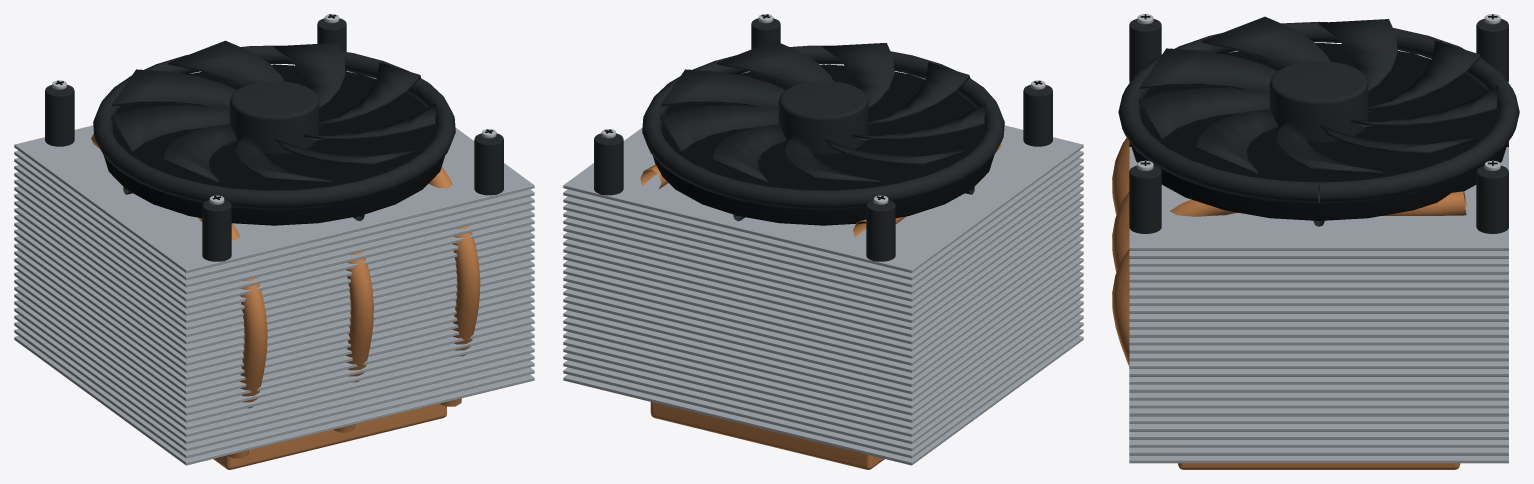
Rendered from cpu-cooler.633de2f46af1.glb.
3 renders of one model, left to right at view 1: azimuth 30°, elevation 25°; view 2: azimuth 150°, elevation 25°; view 3: azimuth 270°, elevation 25°, orthographic. The views are drawn at different scales.
Parts seen in each view (by area): view 1: CPU_COOLER / Satin aluminium, Fan rotor assembly.002 / Fine moulded ABS, Fan shadow.002, CPU_COOLER / Copper heat pipes, CPU_COOLER / Fine moulded ABS; view 2: CPU_COOLER / Satin aluminium, Fan rotor assembly.002 / Fine moulded ABS, Fan shadow.002, CPU_COOLER / Fine moulded ABS, CPU_COOLER / Copper heat pipes; view 3: CPU_COOLER / Satin aluminium, Fan rotor assembly.002 / Fine moulded ABS, Fan shadow.002, CPU_COOLER / Fine moulded ABS, CPU_COOLER / Copper heat pipes, CPU_COOLER / Nickel plated fasteners.
Part boxes in pixels (x1=…): CPU_COOLER / Satin aluminium: x1=14, y1=71, x2=534, y2=465; Fan rotor assembly.002 / Fine moulded ABS: x1=93, y1=40, x2=455, y2=221; Fan shadow.002: x1=103, y1=64, x2=445, y2=225; CPU_COOLER / Copper heat pipes: x1=91, y1=133, x2=480, y2=469; CPU_COOLER / Fine moulded ABS: x1=45, y1=18, x2=503, y2=261; CPU_COOLER / Satin aluminium: x1=563, y1=71, x2=1083, y2=465; Fan rotor assembly.002 / Fine moulded ABS: x1=642, y1=40, x2=1004, y2=221; Fan shadow.002: x1=652, y1=64, x2=994, y2=225; CPU_COOLER / Fine moulded ABS: x1=594, y1=18, x2=1052, y2=261; CPU_COOLER / Copper heat pipes: x1=640, y1=144, x2=1001, y2=469; CPU_COOLER / Satin aluminium: x1=1129, y1=81, x2=1508, y2=463; Fan rotor assembly.002 / Fine moulded ABS: x1=1118, y1=16, x2=1519, y2=226; Fan shadow.002: x1=1130, y1=43, x2=1507, y2=220; CPU_COOLER / Fine moulded ABS: x1=1129, y1=19, x2=1508, y2=233; CPU_COOLER / Copper heat pipes: x1=1112, y1=138, x2=1466, y2=469; CPU_COOLER / Nickel plated fasteners: x1=1137, y1=14, x2=1500, y2=170.
Size of the model in its own units: 0.082 by 0.0675 by 0.0751.
